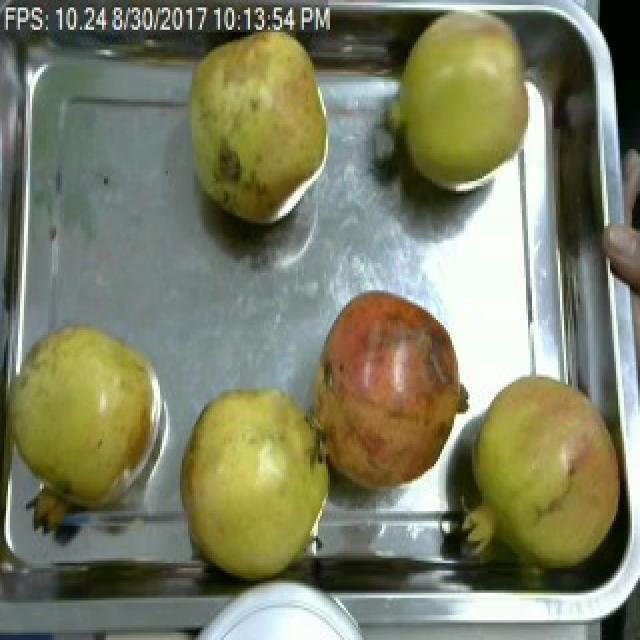fruit: (162, 367, 352, 593), (0, 305, 174, 541), (302, 275, 478, 501), (462, 360, 628, 576), (176, 12, 336, 236), (382, 2, 546, 208)
